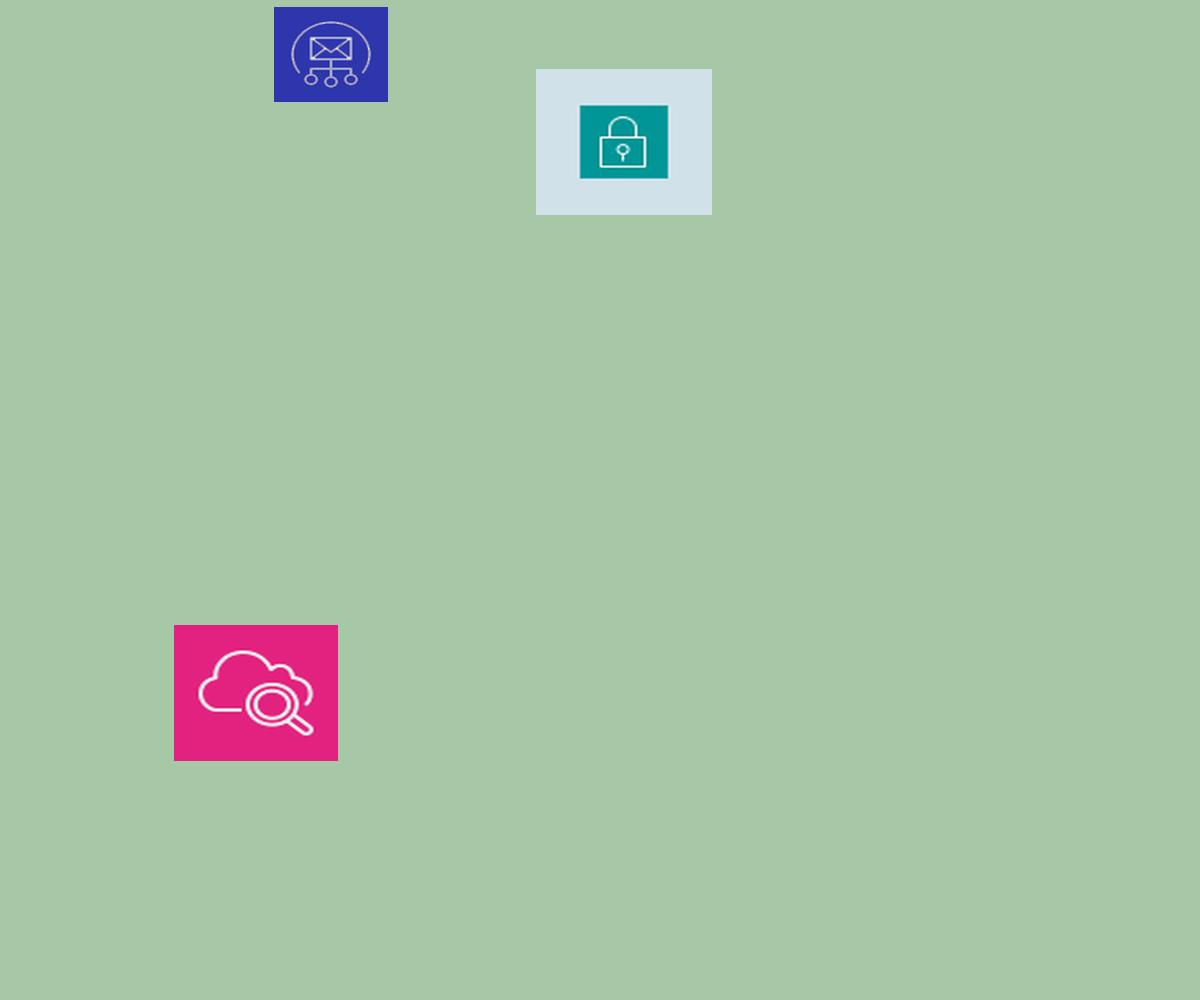AWS-CloudWatch: (174, 625, 338, 761)
AWS-Private-subnet: (536, 69, 712, 215)
AWS-Simple-Email-Service: (274, 7, 388, 102)
